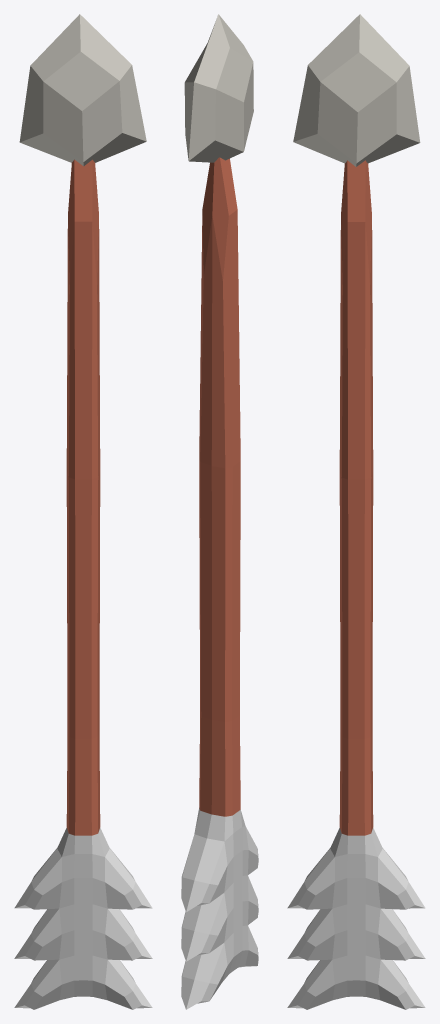
The model's file is arrow.fbx.
The picture shows the model from 3 angles, left to right: view 1: azimuth 90°, elevation 25°; view 2: azimuth 150°, elevation 25°; view 3: azimuth 270°, elevation 25°; orthographic projection. The views are drawn at different scales.
Parts seen in each view (by area): view 1: Cylinder; view 2: Cylinder; view 3: Cylinder.
Part boxes in pixels (left/top/right/bottom): Cylinder: left=14, top=14, right=152, bottom=1009; Cylinder: left=181, top=14, right=258, bottom=1009; Cylinder: left=287, top=14, right=425, bottom=1009.
Size of the model in its own units: 45.8 by 862 by 109.
